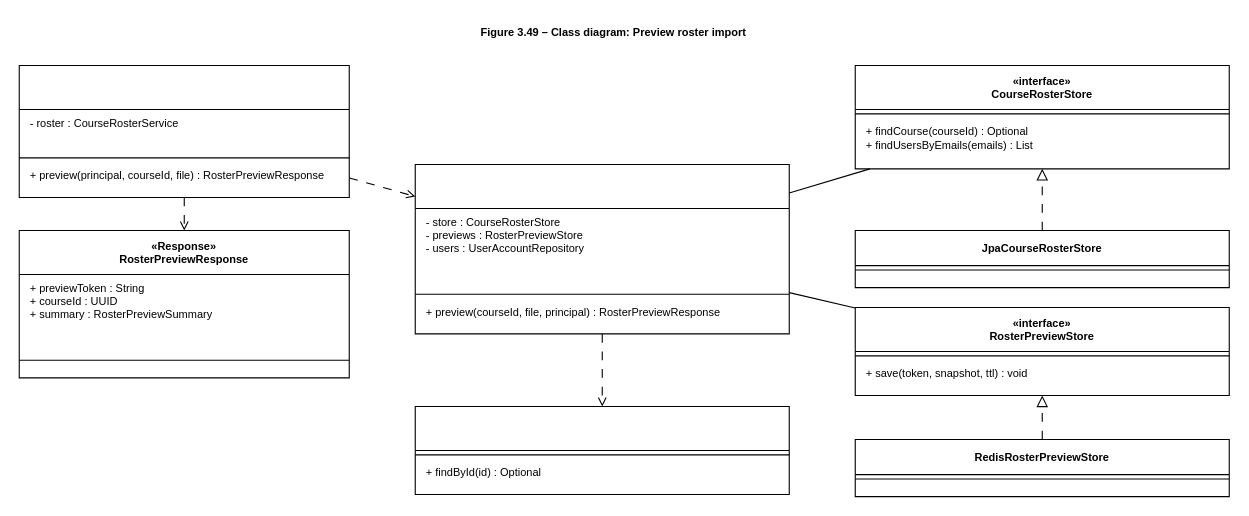
Image size: 1249x516. Some labels were removed from this diagram. The shapes that lost their labels are listed below. From the top down, each one's box as (x1, y1, x2, y2) in pixels, then its label:
(18, 64, 349, 197): «Controller» AdminCourseRosterController
(414, 163, 789, 334): «Service» CourseRosterService
(414, 405, 789, 494): «interface» UserAccountRepository
